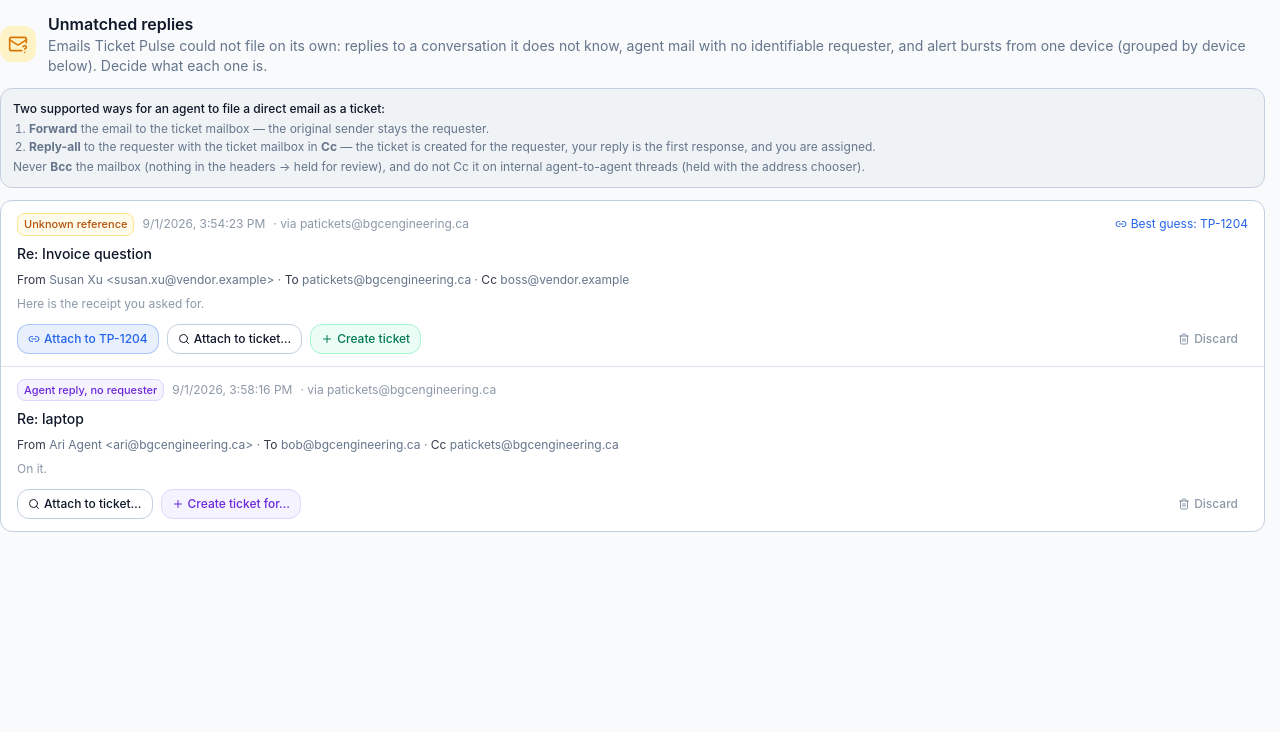
Test: HeldRepliesPanel (Phase RL, RL-4) › an API failure surfaces as an alert
This screenshot has width=1280, height=732.
Check: the list item with test id "held-row-501" is shown, box x1=1 y1=201 x2=1264 y2=366
Click the button with aria-label "Discard held message 501": [1208, 338] box x1=1168 y1=324 x2=1248 y2=352
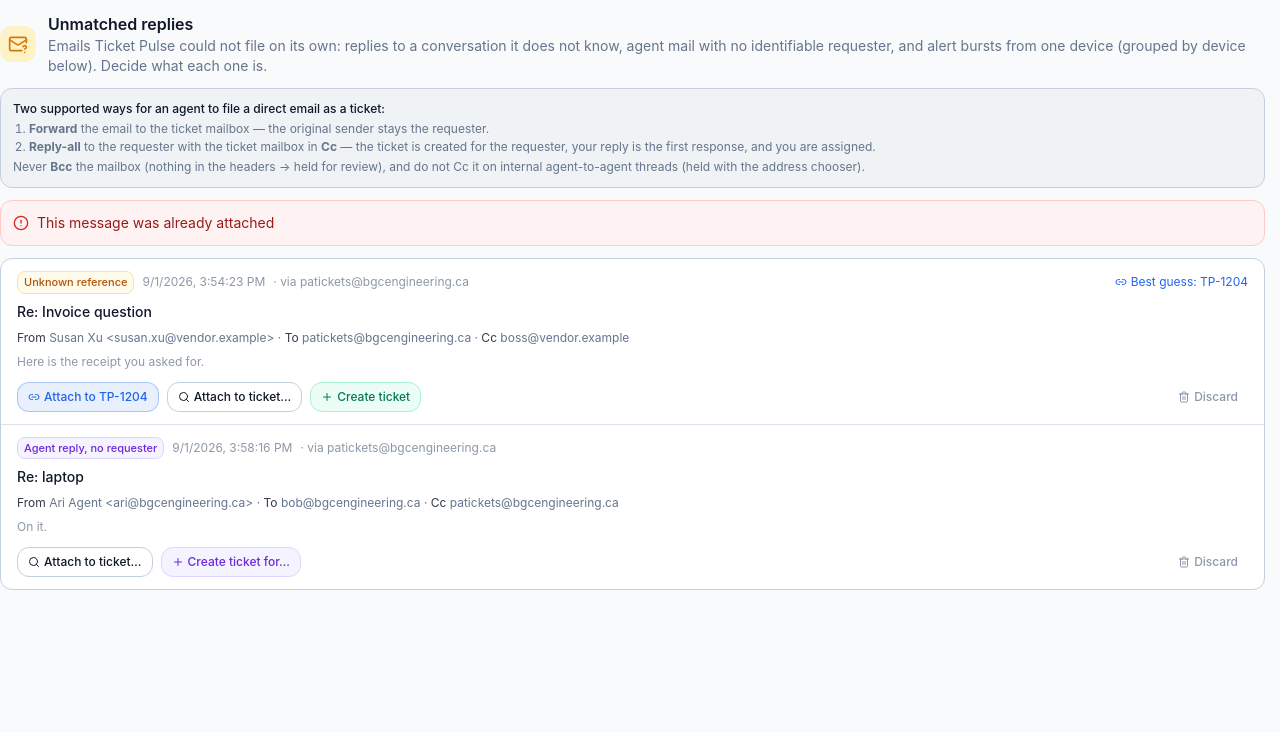
Check: the message shows "already attached", box x1=37 y1=214 x2=274 y2=231
